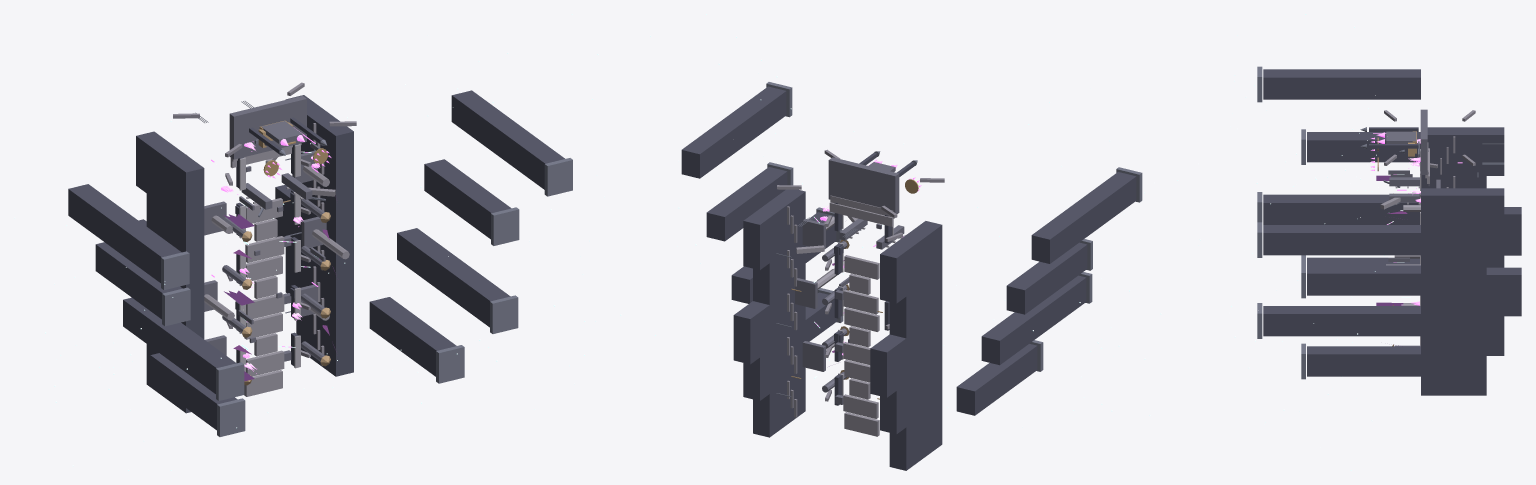
File: floor5_abyss_throne_refined_v2.glb
3 views of the same model, side by side, from view 1: azimuth 30°, elevation 25°; view 2: azimuth 150°, elevation 25°; view 3: azimuth 270°, elevation 25° (orthographic). The views are drawn at different scales.
Visible parts, largest first — view 1: Far_Megastructure_1_3, Far_Megastructure_1_1, Far_Megastructure_-1_3, Abyss_Rim_Wall_-1_4, Far_Megastructure_-1_1, Far_Megastructure_1_0, Far_Megastructure_1_2, Throne_Dais, Abyss_Rim_Wall_1_4, Far_Megastructure_-1_0, Far_Megastructure_-1_2, Abyss_Rim_Wall_1_1 (+19 smaller); view 2: Far_Megastructure_1_3, Far_Megastructure_-1_3, Far_Megastructure_-1_1, Abyss_Rim_Wall_-1_4, Abyss_Rim_Wall_-1_2, Abyss_Rim_Wall_1_4, Abyss_Rim_Wall_1_2, Far_Megastructure_-1_2, Far_Megastructure_-1_0, Throne_Dais, Far_Megastructure_1_2, Abyss_Rim_Wall_-1_1 (+16 smaller); view 3: Far_Megastructure_-1_3, Far_Megastructure_1_1, Far_Megastructure_1_3, Abyss_Rim_Wall_1_2, Far_Megastructure_-1_1, Abyss_Rim_Wall_1_4, Abyss_Rim_Wall_-1_4, Far_Megastructure_1_0, Far_Megastructure_1_2, Abyss_Rim_Wall_1_1, Abyss_Rim_Wall_1_0, Abyss_Rim_Wall_1_3 (+7 smaller).
Part boxes in pixels (<box>): Far_Megastructure_1_3: <box>451,90,564,189</box>; Far_Megastructure_1_1: <box>397,228,510,327</box>; Far_Megastructure_-1_3: <box>68,184,181,282</box>; Abyss_Rim_Wall_-1_4: <box>136,131,204,220</box>; Far_Megastructure_-1_1: <box>123,297,236,393</box>; Far_Megastructure_1_0: <box>369,297,456,376</box>; Far_Megastructure_1_2: <box>424,159,511,239</box>; Throne_Dais: <box>229,96,306,159</box>; Abyss_Rim_Wall_1_4: <box>285,95,353,185</box>; Far_Megastructure_-1_0: <box>150,353,237,430</box>; Far_Megastructure_-1_2: <box>95,242,182,319</box>; Abyss_Rim_Wall_1_1: <box>285,246,353,327</box>; Far_Megastructure_1_3: <box>681,86,786,178</box>; Far_Megastructure_-1_3: <box>1031,172,1136,263</box>; Far_Megastructure_-1_1: <box>981,275,1086,365</box>; Abyss_Rim_Wall_-1_4: <box>880,221,942,303</box>; Abyss_Rim_Wall_-1_2: <box>870,312,942,397</box>; Abyss_Rim_Wall_1_4: <box>743,189,805,269</box>; Abyss_Rim_Wall_1_2: <box>733,279,805,364</box>; Far_Megastructure_-1_2: <box>1006,242,1087,314</box>; Far_Megastructure_-1_0: <box>956,344,1037,415</box>; Throne_Dais: <box>828,157,899,213</box>; Far_Megastructure_1_2: <box>706,167,787,241</box>; Abyss_Rim_Wall_-1_1: <box>880,356,942,434</box>; Far_Megastructure_-1_3: <box>1263,69,1420,99</box>; Far_Megastructure_1_1: <box>1263,306,1420,336</box>; Far_Megastructure_1_3: <box>1263,225,1420,255</box>; Abyss_Rim_Wall_1_2: <box>1421,267,1521,316</box>; Far_Megastructure_-1_1: <box>1263,194,1419,224</box>; Abyss_Rim_Wall_1_4: <box>1421,188,1504,236</box>; Abyss_Rim_Wall_-1_4: <box>1427,127,1504,175</box>; Far_Megastructure_1_0: <box>1307,346,1420,376</box>; Far_Megastructure_1_2: <box>1307,265,1420,295</box>; Abyss_Rim_Wall_1_1: <box>1421,314,1504,355</box>; Abyss_Rim_Wall_1_0: <box>1421,354,1486,395</box>; Abyss_Rim_Wall_1_3: <box>1421,235,1486,276</box>.
Bounding box in the file's own units: 59.83 × 35.72 × 33.39.
